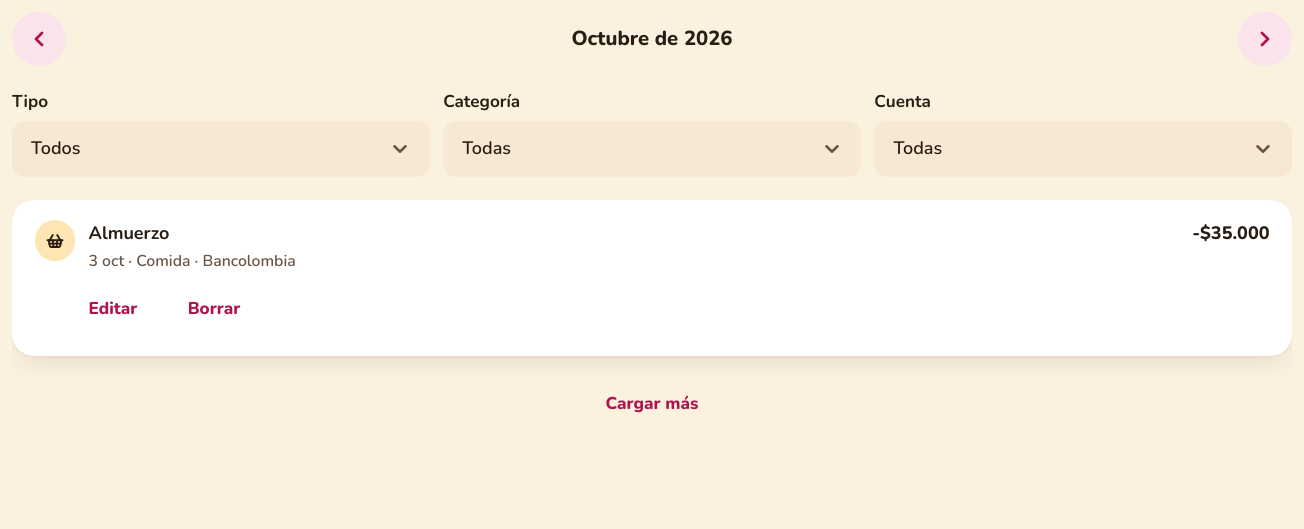
Test case: TransactionList › loads more pages with the cursor
Click the button "Cargar más".
click(652, 404)  # box top-left (12, 378), bottom-right (1292, 430)
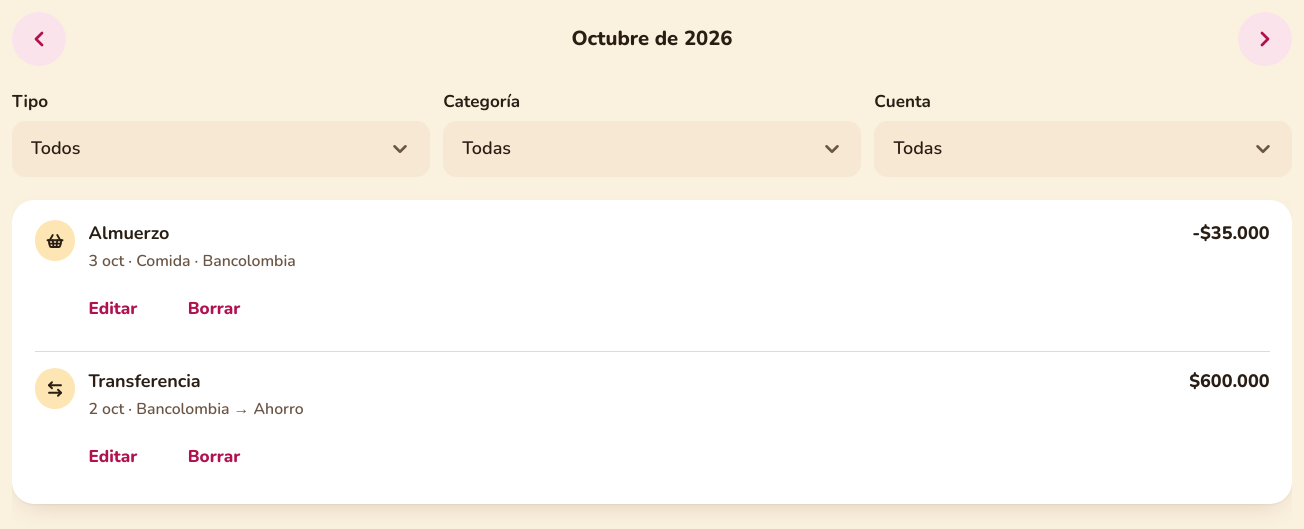
Expected: the text "2 oct · Bancolombia → Ahorro" is shown, top-left (88, 398), bottom-right (304, 420)
Expected: the button "Cargar más" is gone
